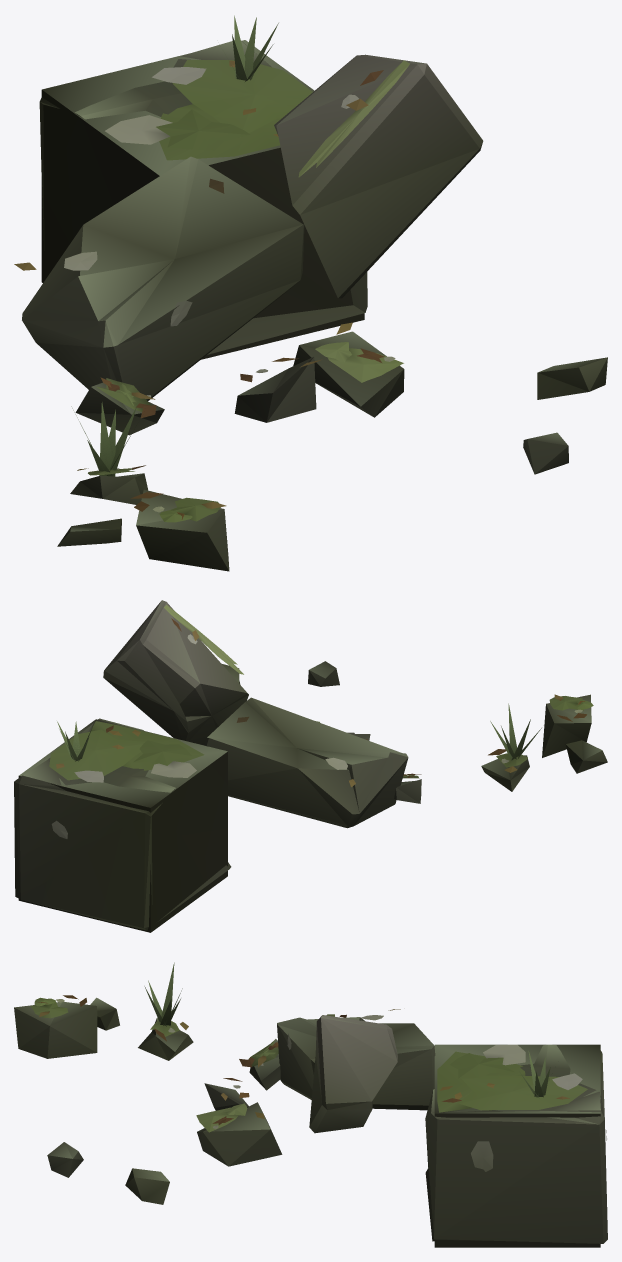
The model's file is vault_stub.glb.
3 views of the same model, one above another, from view 1: azimuth 30°, elevation 25°; view 2: azimuth 150°, elevation 25°; view 3: azimuth 270°, elevation 25° (orthographic). The views are drawn at different scales.
Parts seen in each view (by area): view 1: vault_stub; view 2: vault_stub; view 3: vault_stub.
Part boxes in pixels (x1,y1,x2,y2): vault_stub: [14, 15, 607, 571]; vault_stub: [14, 600, 607, 932]; vault_stub: [14, 962, 607, 1247].
Bounding box in the file's own units: 2.37 × 1.24 × 2.98.
